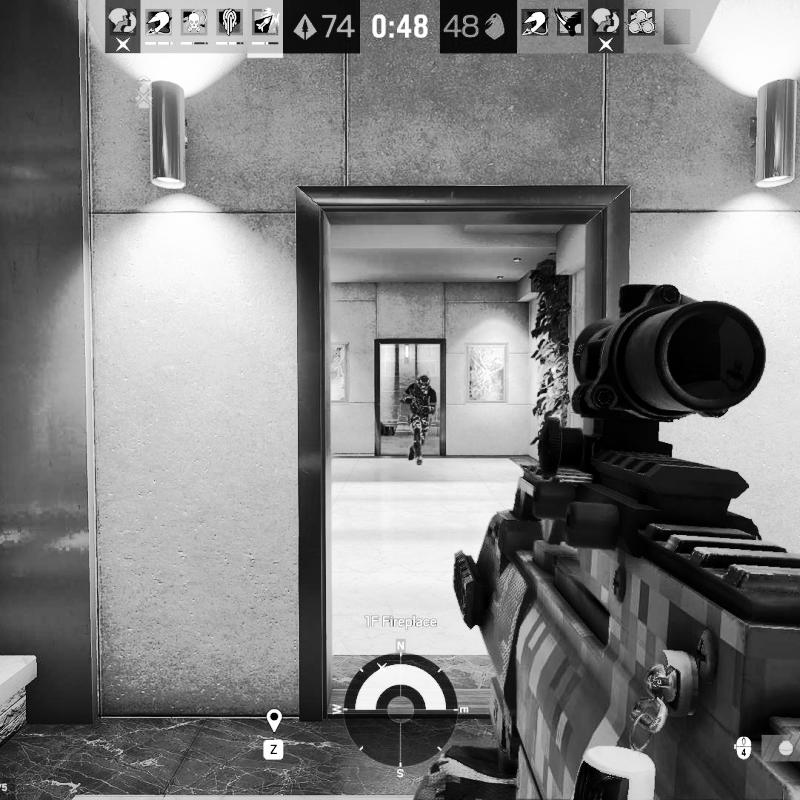Character: (399, 371, 440, 466)
Head: (416, 374, 432, 390)
